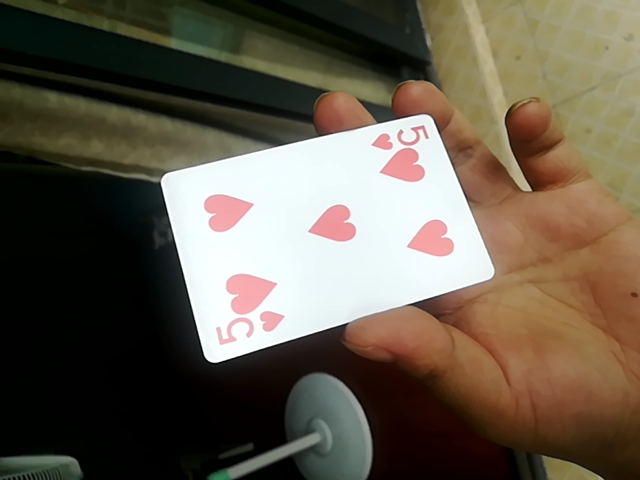hx 5: (156, 111, 495, 362)
